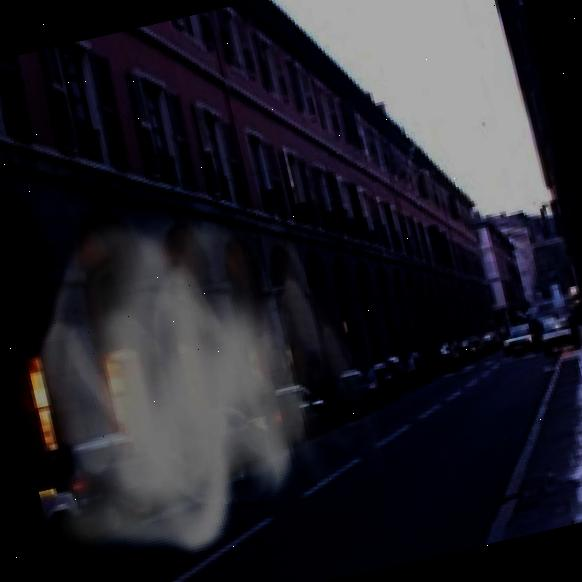smoke: (0, 156, 404, 582)
